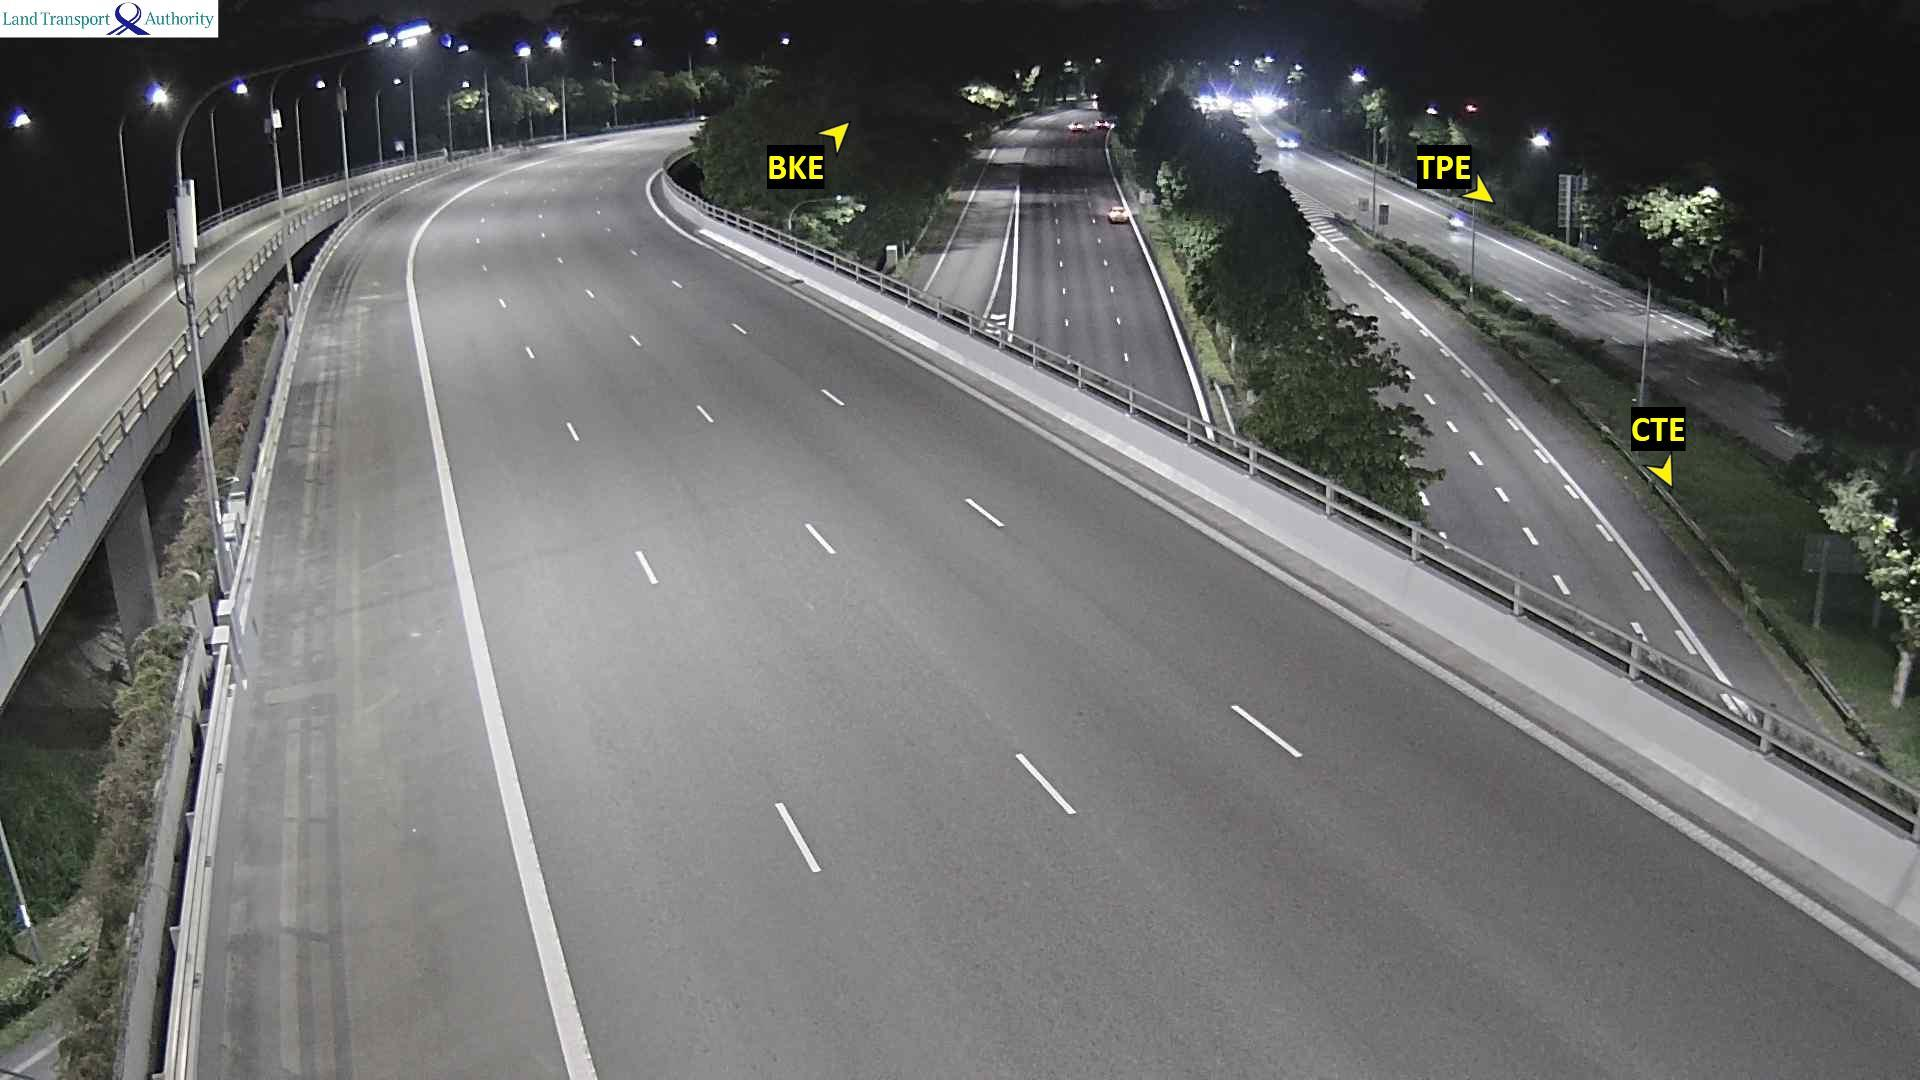cars: (1251, 87, 1288, 113), (1193, 87, 1225, 113), (1274, 131, 1302, 149), (1106, 203, 1129, 222), (1447, 211, 1466, 229), (1232, 100, 1251, 119), (1097, 113, 1116, 129), (1067, 120, 1087, 133)
